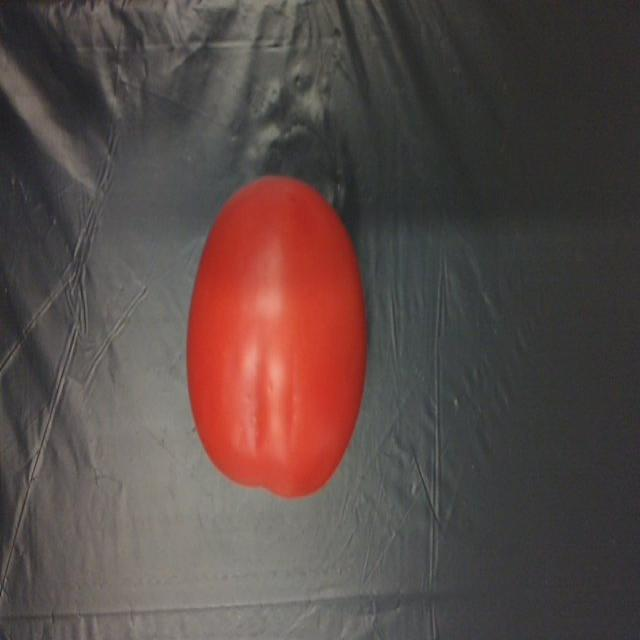kirmizi: (171, 158, 370, 507)
